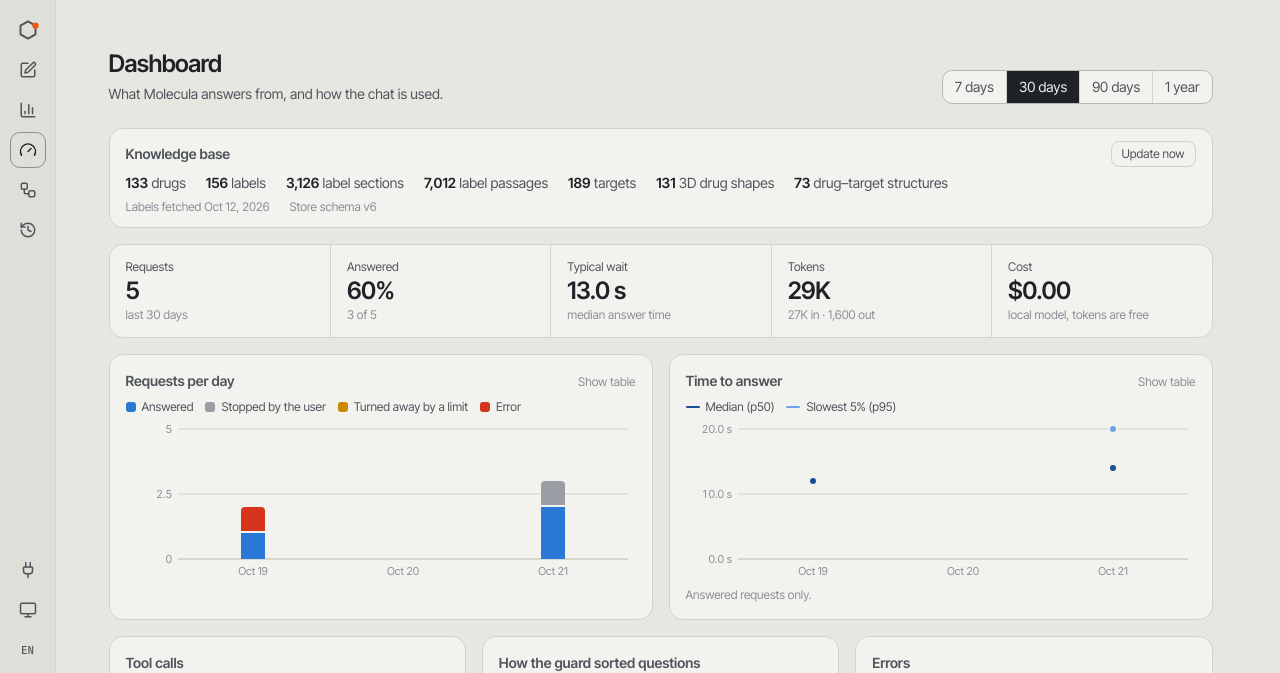
Scenario: Dashboard page › says when the update could not be started
Click the button "Update now": (1153, 154) [1110,141,1196,167]
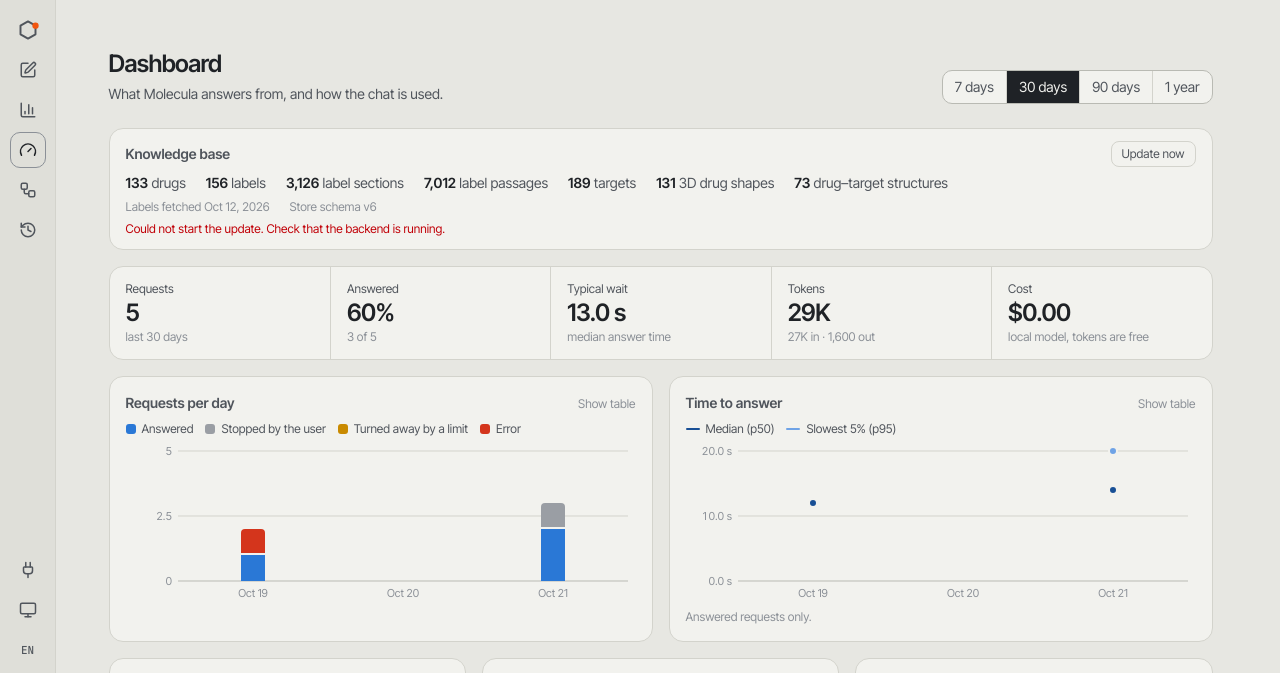
Result: the message shows "Could not start the update." at [126,221,445,236]
